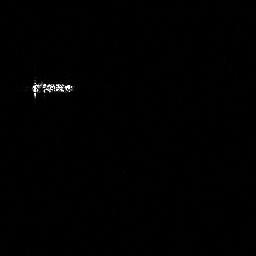ship: (31, 80, 74, 98)
